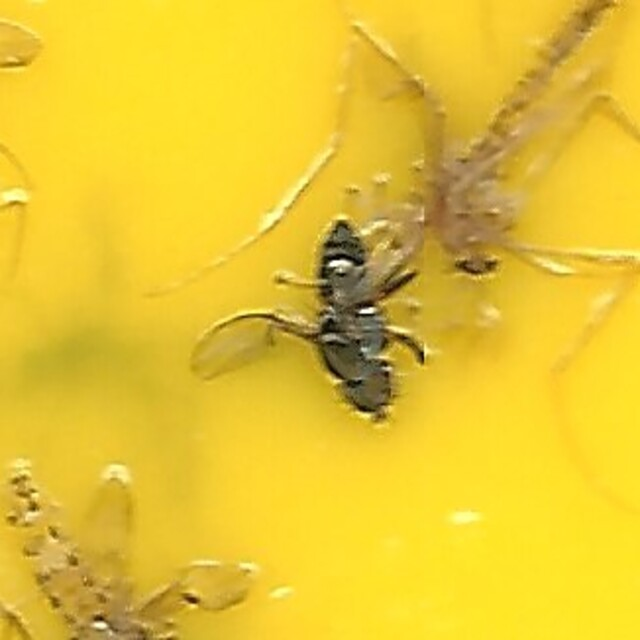Brachycera: (196, 213, 444, 427)
